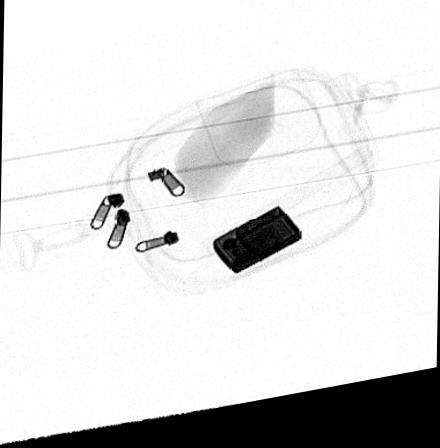Lighter: (211, 215, 302, 283)
